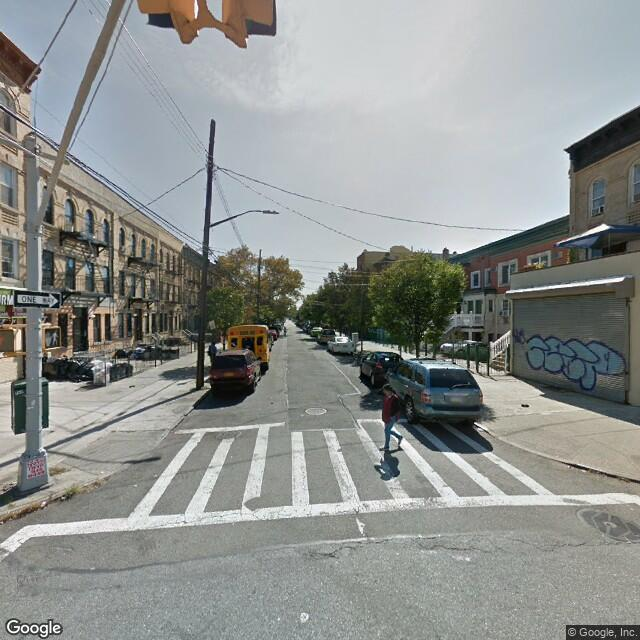litter: (59, 495, 73, 500), (39, 502, 48, 508), (519, 400, 525, 409), (580, 467, 586, 476), (152, 473, 161, 478), (132, 483, 140, 488), (564, 463, 570, 469)
